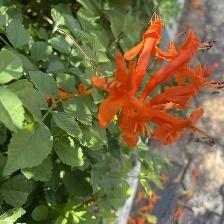honeysuckle: (135, 17, 224, 122)
